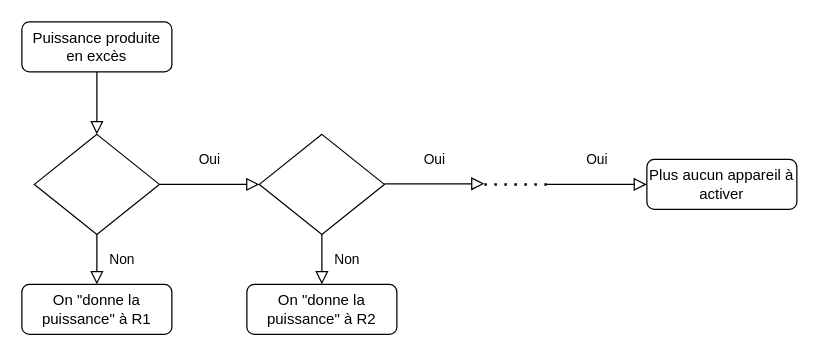
Image size: 819x356. Some labels were removed from this diagram. Here are the shapes that lost their labels. From the top down, the centre of each, then its label:
At pixel 96 183: "R1 activé à 100% ?".
At pixel 321 183: "R2 activé à 100% ?".
